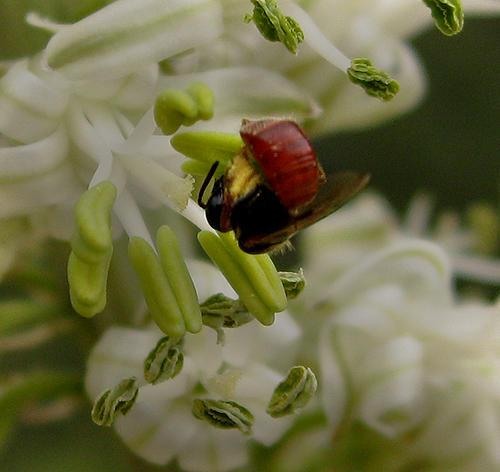Allodapula: (187, 101, 376, 262)
